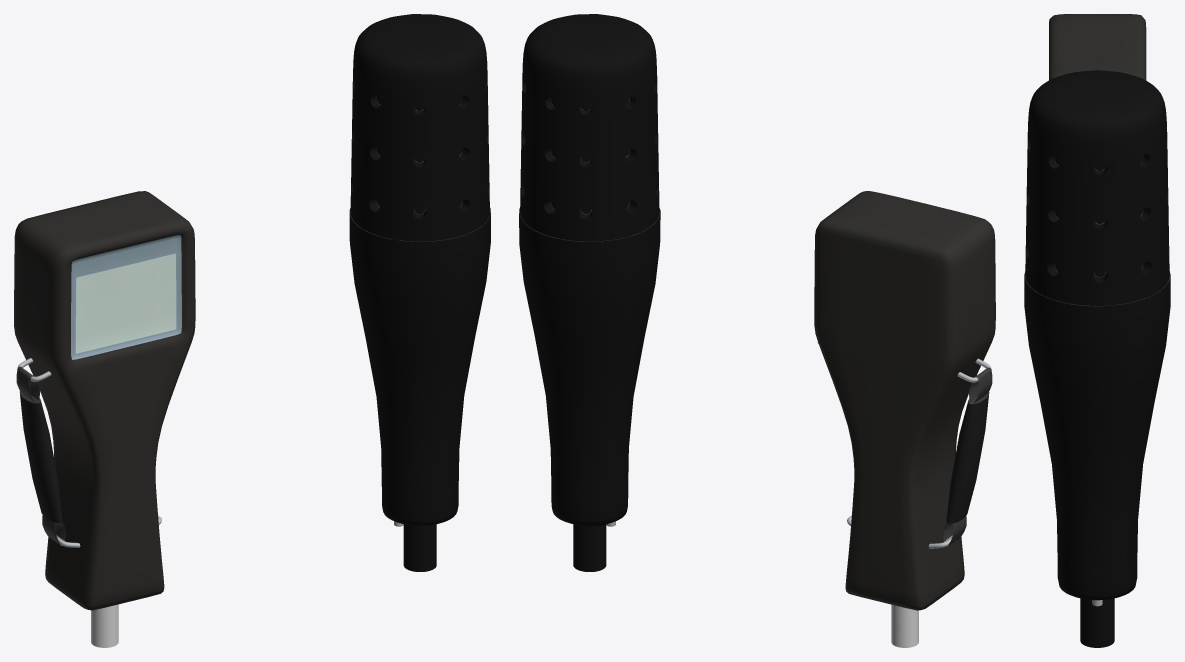
File: medidor-qualidade-agua.glb
3 renders of one model, left to right at view 1: azimuth 30°, elevation 25°; view 2: azimuth 150°, elevation 25°; view 3: azimuth 270°, elevation 25°, orthographic. The views are drawn at different scales.
Parts seen in each view (by area): view 1: Sensor_Probe_Sensor_Probe_Mat_0, Control_Unit_Control_Unit_Mat_0; view 2: Sensor_Probe_Sensor_Probe_Mat_0, Control_Unit_Control_Unit_Mat_0; view 3: Sensor_Probe_Sensor_Probe_Mat_0, Control_Unit_Control_Unit_Mat_0.
Boxes of the visible parts, left/top/right/bottom form: Sensor_Probe_Sensor_Probe_Mat_0: left=349, top=14, right=490, bottom=571; Control_Unit_Control_Unit_Mat_0: left=14, top=191, right=195, bottom=647; Sensor_Probe_Sensor_Probe_Mat_0: left=519, top=14, right=660, bottom=571; Control_Unit_Control_Unit_Mat_0: left=814, top=191, right=995, bottom=647; Sensor_Probe_Sensor_Probe_Mat_0: left=1024, top=70, right=1170, bottom=647; Control_Unit_Control_Unit_Mat_0: left=1049, top=14, right=1146, bottom=80.
Size of the model in its own units: 0.3631 by 0.4029 by 0.0973.
Materials: 2 (2 with a texture image).
